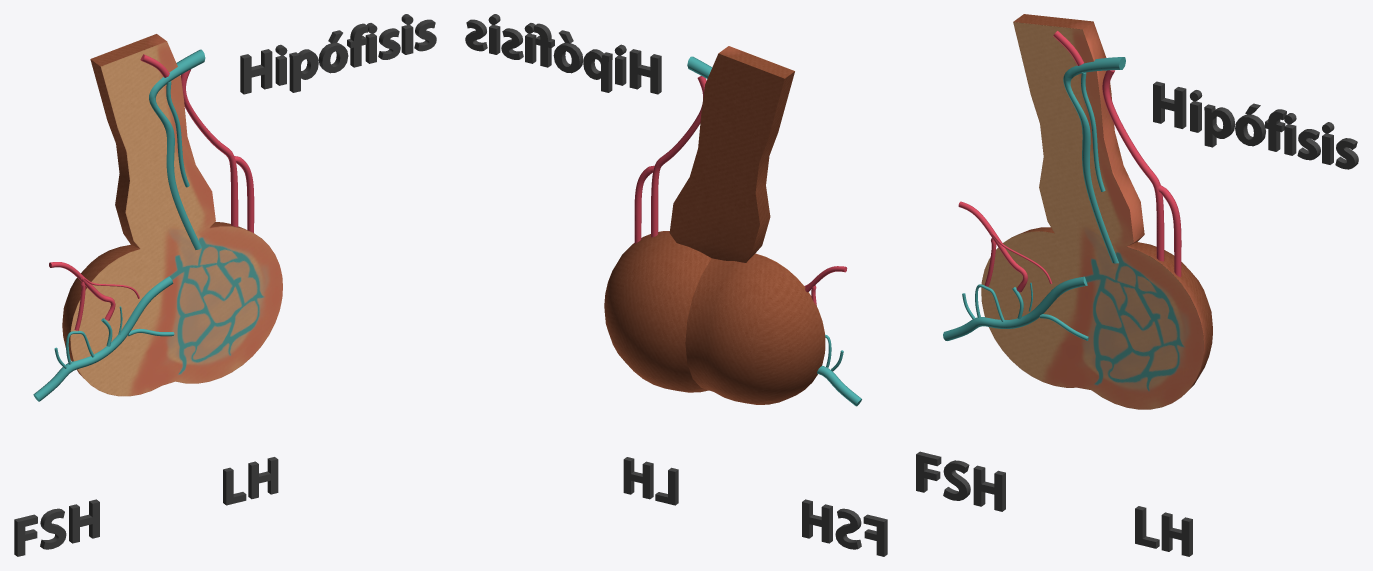
Rendered from Hipófisis.glb.
The picture shows the model from 3 angles, left to right: view 1: azimuth 30°, elevation 25°; view 2: azimuth 150°, elevation 25°; view 3: azimuth 330°, elevation 25°; orthographic projection. The views are drawn at different scales.
Parts seen in each view (by area): view 1: BASE, letra, TUBOS_VERDES, TUBOS_MORADOS; view 2: BASE, letra, TUBOS_MORADOS, TUBOS_VERDES; view 3: BASE, letra, TUBOS_VERDES, TUBOS_MORADOS.
Boxes of the visible parts, bbox=[...] form: BASE: bbox=[62, 34, 282, 396]; letra: bbox=[14, 14, 436, 556]; TUBOS_VERDES: bbox=[33, 49, 205, 401]; TUBOS_MORADOS: bbox=[49, 54, 254, 330]; BASE: bbox=[604, 46, 825, 404]; letra: bbox=[465, 14, 887, 556]; TUBOS_MORADOS: bbox=[634, 76, 847, 305]; TUBOS_VERDES: bbox=[687, 56, 861, 406]; BASE: bbox=[981, 14, 1212, 409]; letra: bbox=[916, 81, 1358, 556]; TUBOS_VERDES: bbox=[943, 57, 1125, 340]; TUBOS_MORADOS: bbox=[958, 31, 1181, 292].
Size of the model in its own units: 3.8 by 4.12 by 0.7024.
Materials: 4 (3 with a texture image).
